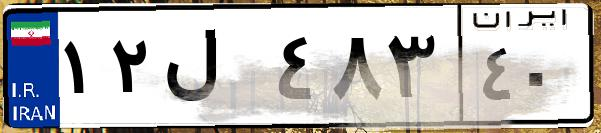0: (525, 38, 570, 115)
1: (57, 26, 110, 100)
2: (110, 28, 158, 98)
3: (385, 28, 445, 110)
4: (270, 28, 330, 110), (475, 38, 525, 113)
8: (330, 28, 385, 110)
ل: (158, 20, 270, 120)
